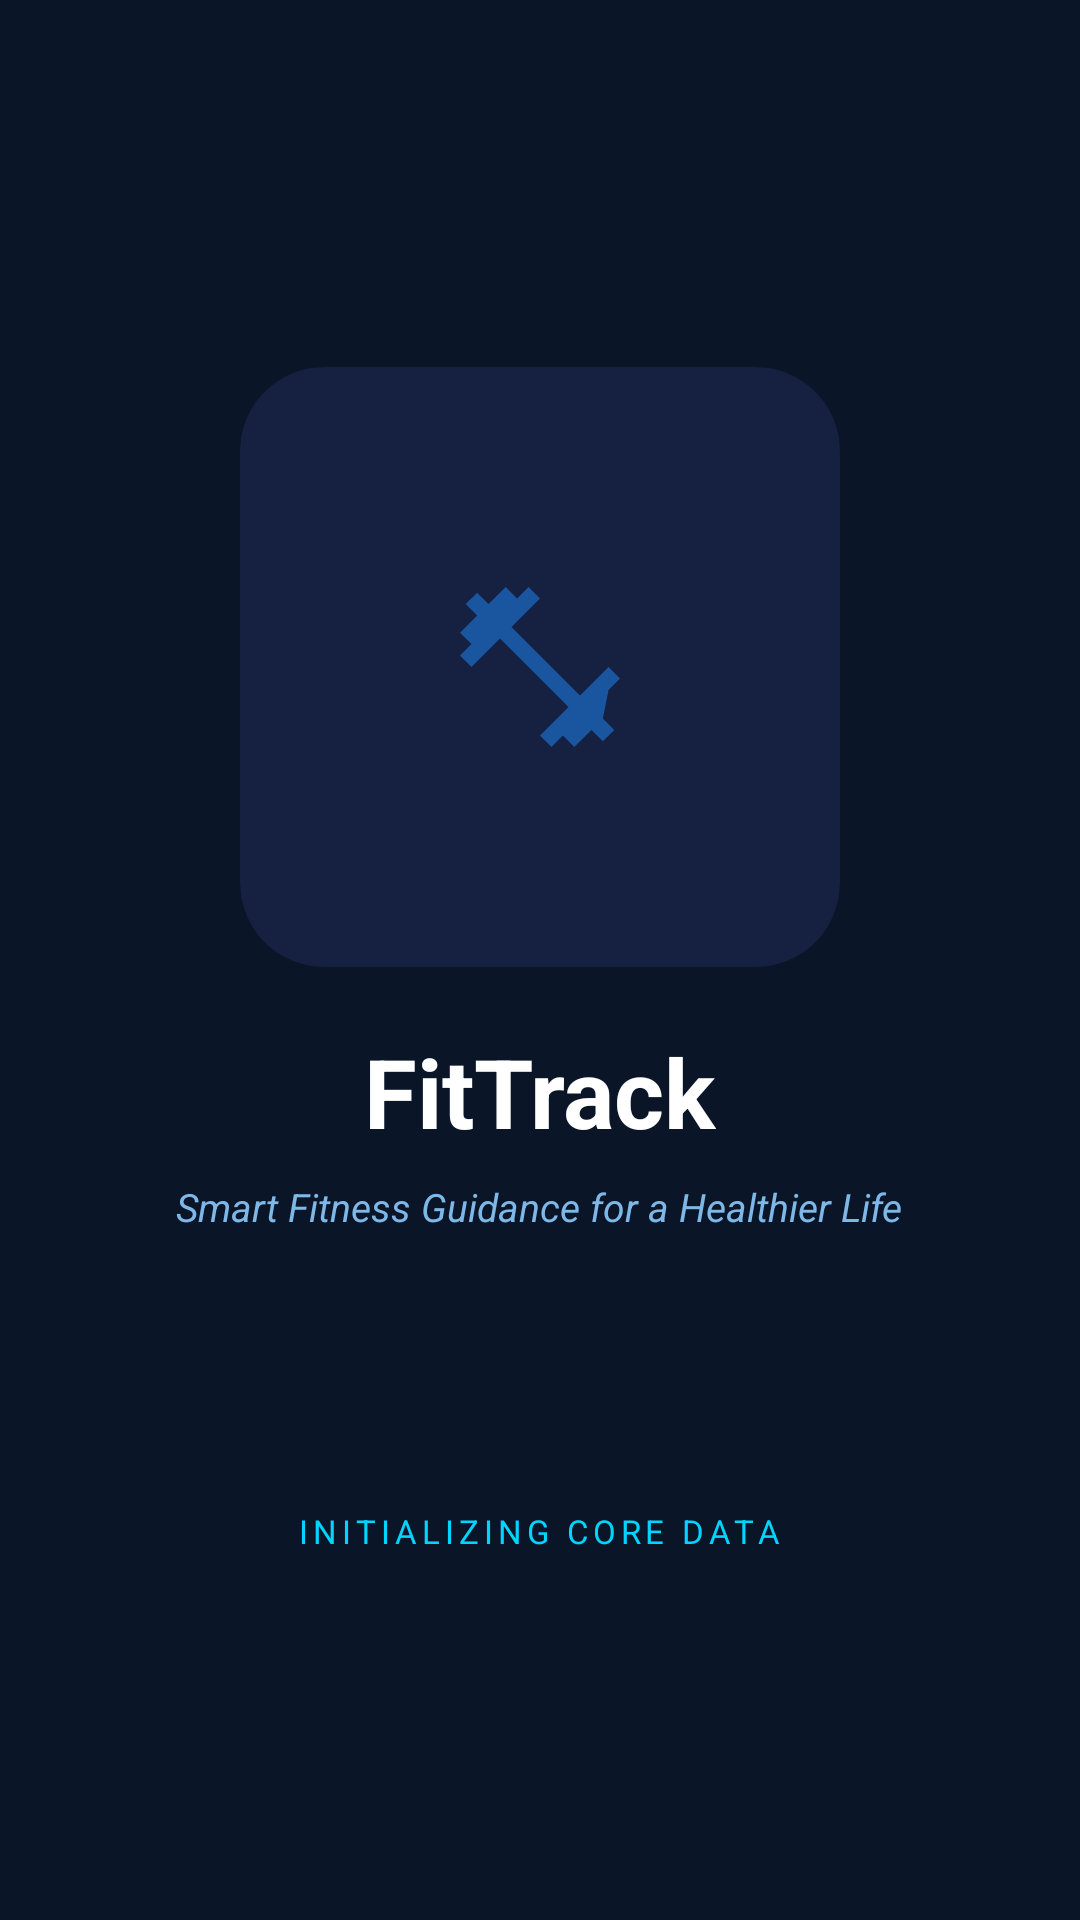

Screen size 1080px×1920px. Icon name, then its box in pixels as (x1, y1, x2, y2):
dumbbell: (460, 587, 620, 747)
